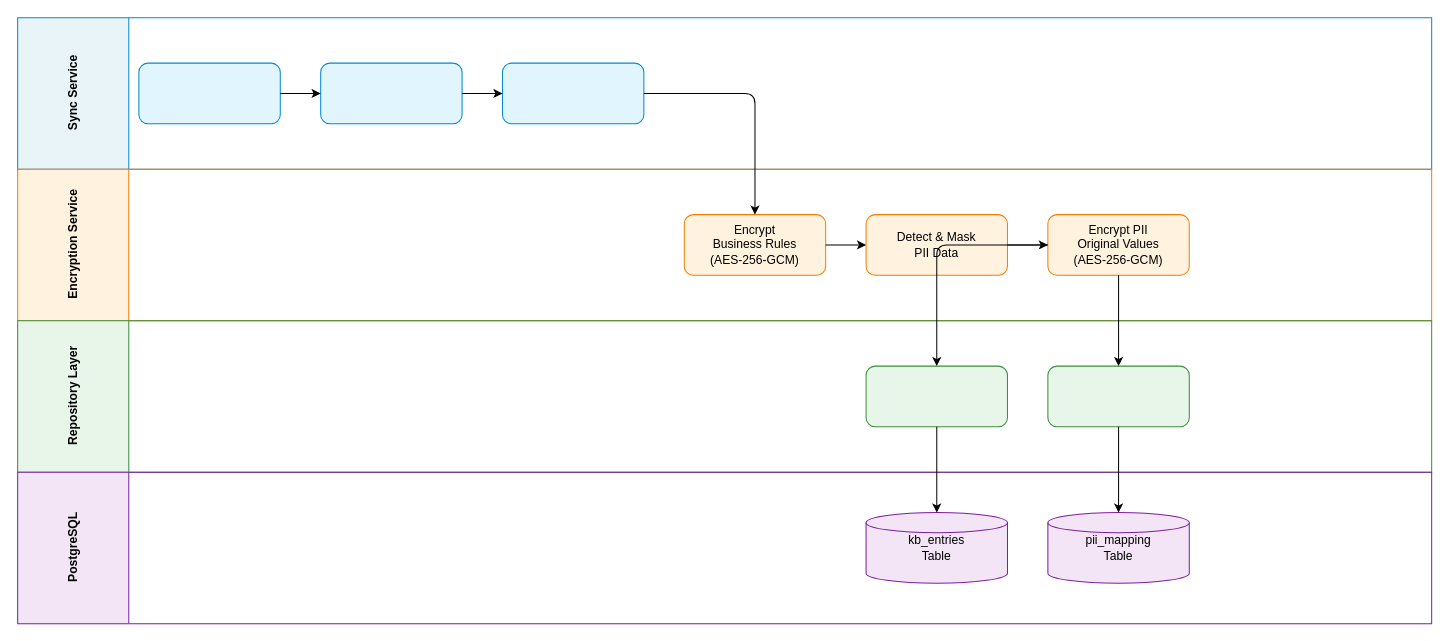
Image size: 1449x641. Some labels were removed from this diagram. The shapes that lost their labels are listed below. From the top down, each one's centre as x and y in pixels, then its label:
the point at 209,93: Receive Jira Ticket Data
the point at 391,93: Classify Content (4 Layers)
the point at 572,93: Compute Content Hash
the point at 936,396: Upsert KB Entry
the point at 1118,396: Insert PII Mappings
